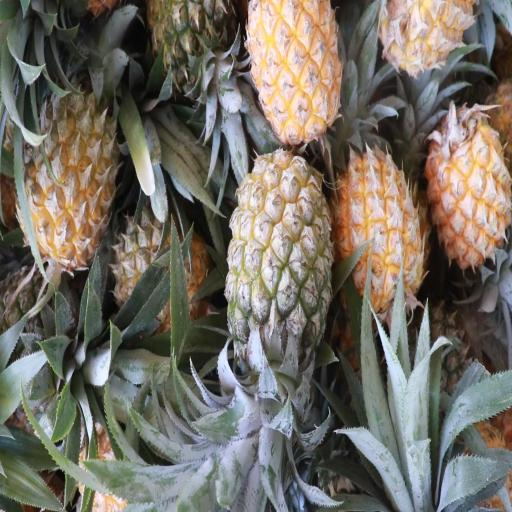------------------------------: (227, 149, 332, 369), (116, 202, 210, 328)
Pineapple - v8 v1: (20, 82, 116, 261), (430, 102, 512, 270), (338, 148, 423, 308), (251, 1, 345, 137)
